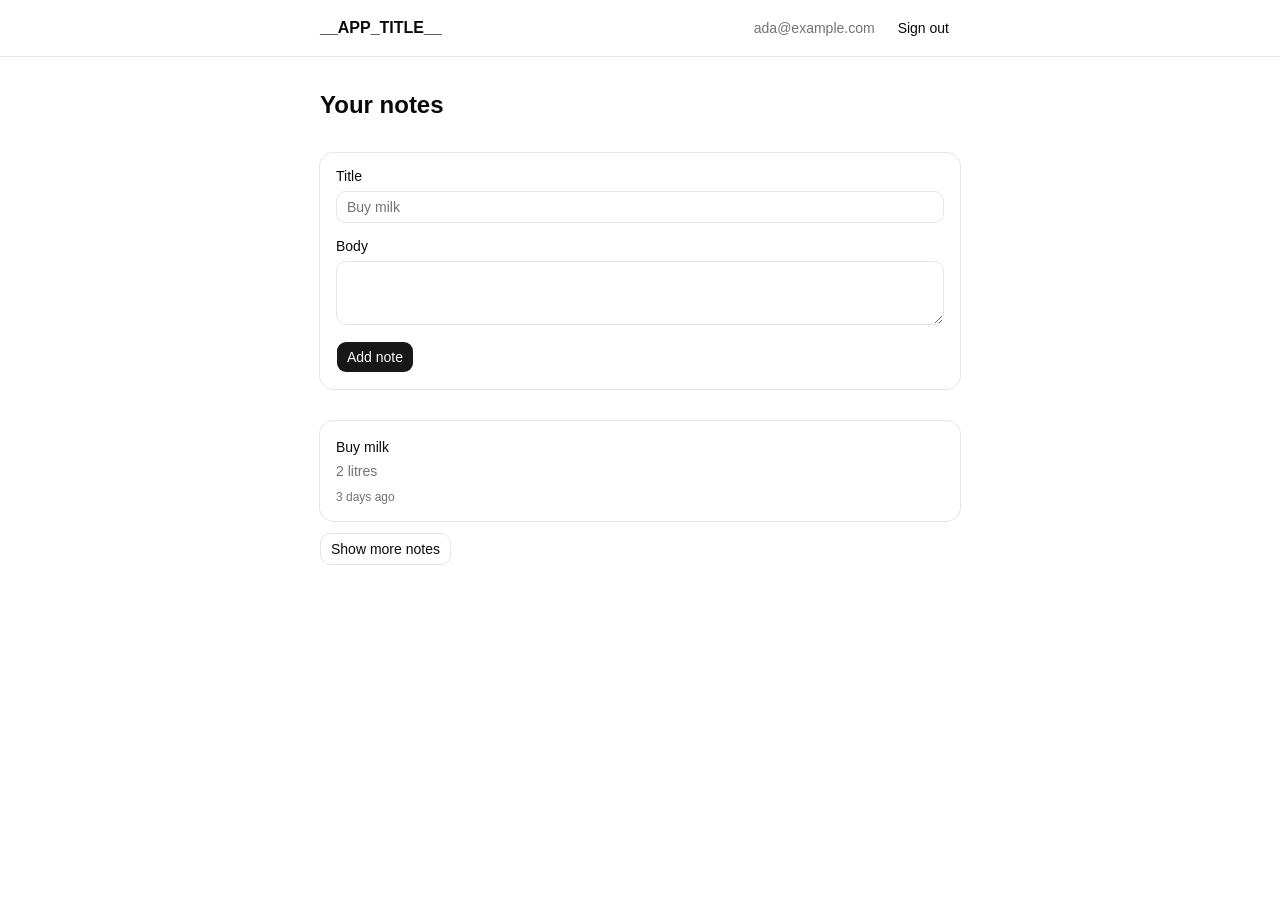
Scenario: notes page (list + create against the API) › loads the next page when there are more notes
The width and height of the screenshot is (1280, 900).
Click the button "Show more notes".
click(386, 549)  # box left=320, top=533, right=451, bottom=565
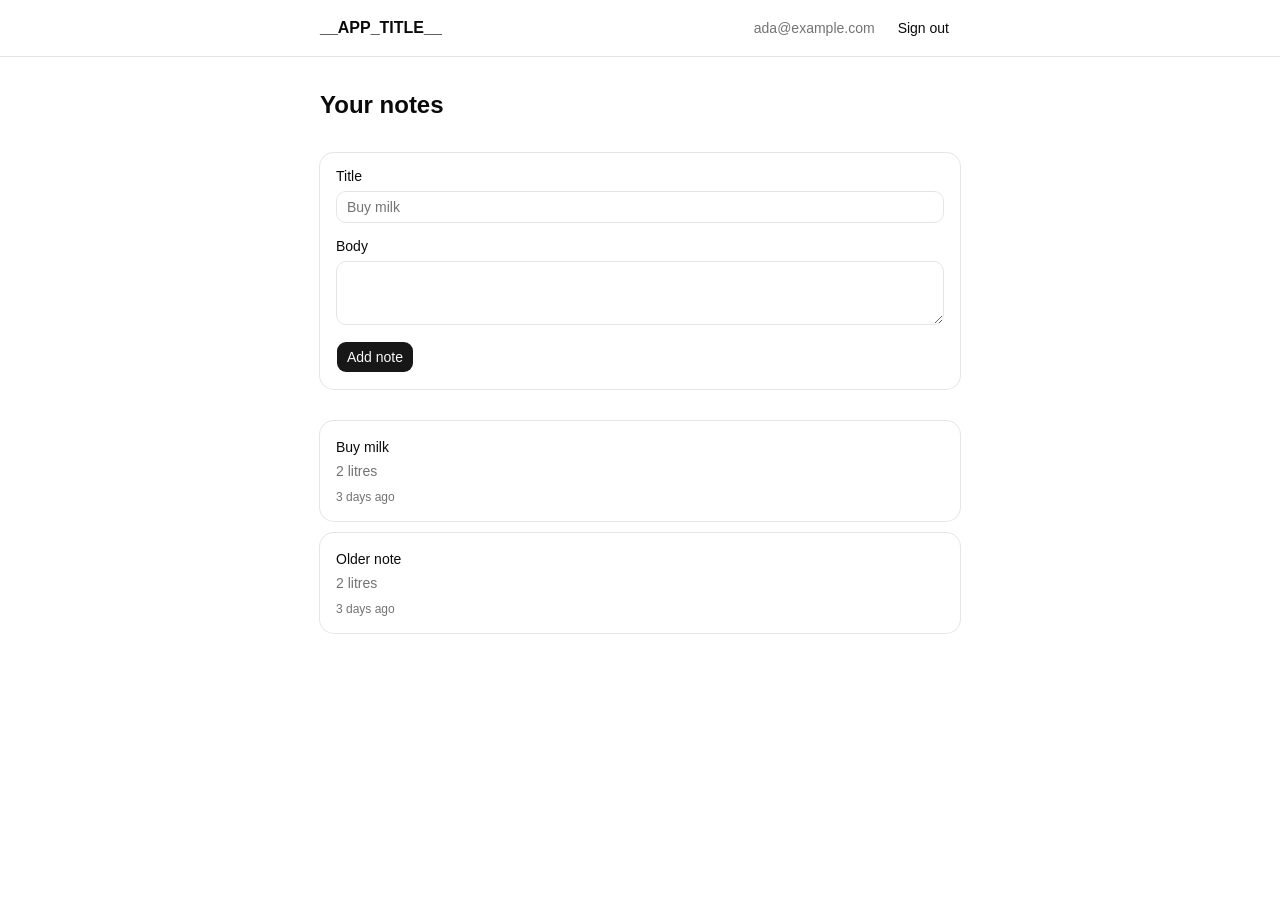
Expected: the heading "Older note" is shown, left=336, top=551, right=401, bottom=567
